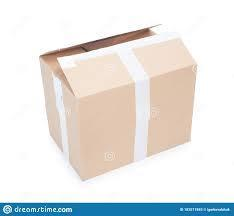box: (37, 23, 197, 180)
